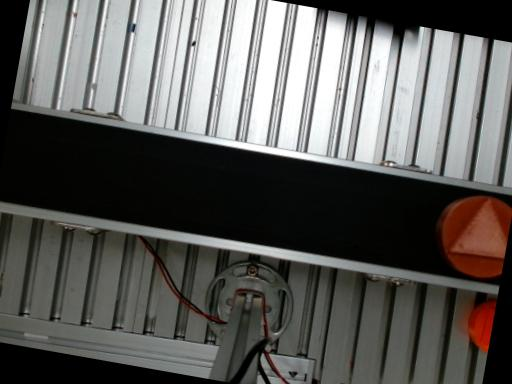Brown_Waper: (435, 195, 512, 278)
Not_Square: (448, 199, 507, 260)
